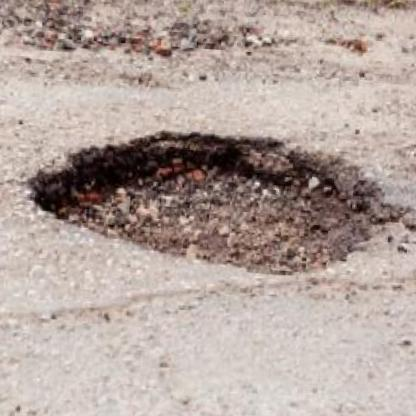pothole: (21, 121, 394, 285)
